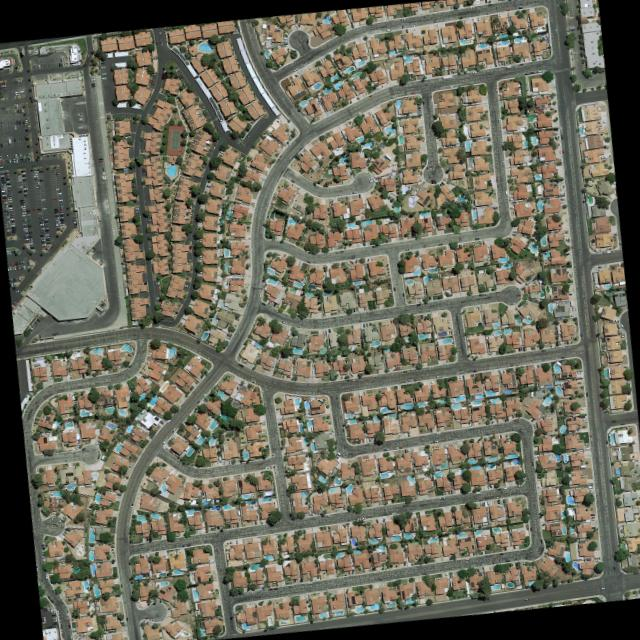large-vehicle: (389, 160, 397, 167), (6, 138, 11, 145), (579, 464, 586, 468), (504, 65, 511, 69), (217, 455, 221, 462), (619, 323, 624, 328), (503, 188, 507, 194), (474, 490, 480, 494), (292, 67, 298, 71), (445, 85, 452, 88), (605, 250, 610, 253), (596, 252, 601, 255)
ship: (40, 554, 45, 561)
small-vehicle: (237, 362, 244, 368), (170, 426, 176, 433), (161, 438, 167, 444), (367, 175, 374, 180), (124, 134, 131, 139), (165, 417, 170, 424), (552, 135, 558, 140), (368, 178, 374, 183), (286, 134, 291, 140), (367, 93, 373, 98), (321, 55, 326, 61), (348, 259, 354, 264), (288, 60, 294, 65), (226, 130, 231, 136), (260, 301, 266, 306), (196, 375, 202, 380), (190, 388, 195, 394), (195, 398, 201, 403), (235, 330, 240, 336), (366, 565, 371, 571), (303, 594, 308, 600), (138, 361, 143, 367), (49, 515, 54, 521), (233, 316, 239, 321), (400, 17, 407, 21), (435, 374, 442, 378), (82, 62, 87, 67), (565, 251, 570, 256), (475, 305, 480, 310), (487, 483, 492, 488), (426, 166, 431, 171), (424, 164, 429, 169), (298, 152, 303, 157), (274, 158, 279, 163), (285, 140, 290, 145), (293, 73, 298, 78), (417, 299, 422, 304), (244, 133, 249, 138), (289, 178, 294, 183), (439, 180, 444, 185), (302, 61, 307, 66), (511, 544, 516, 549), (540, 521, 545, 526), (50, 243, 55, 248), (158, 419, 163, 424), (201, 392, 206, 397), (250, 379, 255, 384), (241, 380, 246, 385), (341, 523, 346, 528), (263, 312, 268, 317), (529, 417, 534, 422), (443, 571, 448, 576), (127, 363, 132, 368), (80, 446, 85, 451), (27, 327, 32, 332), (35, 317, 40, 322), (268, 301, 273, 306), (39, 585, 44, 590), (612, 318, 618, 322), (507, 194, 513, 198), (435, 162, 439, 168), (559, 133, 563, 139), (494, 176, 498, 182), (446, 243, 450, 249), (499, 499, 503, 505), (540, 348, 546, 352), (576, 375, 582, 379), (374, 181, 380, 185), (390, 167, 396, 171), (351, 190, 357, 194), (422, 313, 426, 319), (388, 317, 392, 323), (349, 255, 355, 259), (535, 69, 541, 73), (486, 2, 492, 6), (443, 9, 449, 13), (409, 23, 415, 27), (523, 4, 529, 8), (589, 517, 595, 521), (479, 562, 485, 566), (504, 558, 510, 562), (509, 561, 513, 567), (521, 560, 525, 566), (34, 155, 38, 161), (55, 187, 61, 191), (56, 191, 62, 195), (42, 217, 48, 221), (54, 171, 60, 175), (218, 117, 224, 121), (183, 82, 189, 86), (304, 331, 308, 337), (311, 510, 317, 514), (432, 439, 438, 443), (417, 564, 423, 568), (234, 539, 238, 545), (217, 617, 223, 621), (238, 591, 244, 595), (70, 450, 76, 454), (96, 453, 100, 459), (64, 527, 70, 531), (126, 353, 132, 357), (274, 233, 278, 239), (51, 621, 57, 625), (345, 378, 352, 381), (463, 557, 470, 560), (531, 280, 536, 284), (519, 286, 524, 290), (510, 301, 515, 305), (570, 306, 574, 311), (568, 313, 573, 317), (508, 205, 513, 209), (437, 242, 442, 246), (560, 204, 564, 209), (620, 421, 625, 425), (473, 498, 478, 502), (524, 364, 528, 369), (531, 421, 536, 425), (498, 434, 502, 439), (482, 436, 486, 441), (489, 419, 493, 424), (512, 417, 517, 421), (344, 121, 348, 126), (374, 178, 379, 182), (277, 154, 282, 158), (366, 111, 371, 115), (279, 143, 283, 148), (356, 111, 361, 115), (281, 39, 286, 43), (329, 198, 333, 203), (365, 257, 369, 262), (316, 99, 320, 104), (285, 46, 290, 50), (432, 179, 436, 184), (518, 62, 523, 66), (484, 132, 489, 136), (601, 119, 606, 123), (438, 182, 442, 187), (429, 179, 433, 184), (404, 28, 408, 33), (386, 15, 390, 20), (448, 4, 452, 9), (469, 5, 474, 9), (400, 25, 405, 29), (458, 15, 463, 19), (485, 11, 490, 15), (505, 7, 510, 11), (523, 597, 528, 601), (538, 538, 542, 543), (542, 553, 547, 557), (539, 557, 544, 561), (14, 260, 18, 265), (31, 206, 35, 211), (43, 221, 48, 225), (36, 63, 40, 68), (11, 109, 15, 114), (1, 105, 5, 110), (23, 134, 27, 139), (180, 543, 185, 547), (160, 417, 164, 422), (126, 385, 130, 390), (202, 398, 206, 403), (227, 458, 231, 463), (233, 462, 238, 466), (355, 516, 360, 520), (342, 503, 346, 508), (325, 513, 330, 517), (200, 107, 205, 111), (179, 74, 184, 78), (174, 67, 179, 71), (272, 359, 276, 364), (295, 324, 300, 328), (281, 320, 286, 324), (225, 335, 230, 339), (250, 363, 254, 368), (205, 183, 210, 187), (436, 496, 441, 500), (372, 453, 376, 458), (367, 437, 371, 442), (374, 518, 378, 523), (255, 532, 260, 536), (295, 577, 299, 582), (258, 583, 262, 588), (249, 589, 254, 593), (344, 588, 348, 593), (409, 560, 413, 565), (217, 153, 222, 157), (123, 367, 128, 371), (144, 360, 149, 364), (177, 405, 181, 410), (63, 530, 68, 534), (127, 464, 132, 468), (116, 364, 120, 369), (144, 554, 148, 559), (9, 304, 14, 308), (11, 302, 16, 306), (12, 300, 17, 304), (15, 296, 19, 301), (14, 289, 19, 293), (28, 326, 33, 330), (30, 323, 34, 328), (33, 320, 37, 325), (257, 292, 261, 297), (183, 283, 188, 287), (249, 247, 253, 252), (55, 609, 59, 614), (34, 565, 38, 570), (49, 608, 54, 612), (76, 636, 81, 640), (52, 618, 57, 622), (51, 587, 55, 592), (46, 595, 51, 599), (49, 598, 53, 603), (59, 599, 63, 604), (53, 604, 57, 609), (66, 618, 70, 623), (552, 183, 558, 186), (582, 442, 588, 445), (590, 446, 593, 452), (471, 369, 477, 372), (509, 363, 515, 366), (404, 312, 410, 315), (528, 71, 534, 74), (410, 91, 416, 94), (385, 28, 391, 31), (612, 564, 615, 570), (587, 485, 593, 488), (468, 564, 474, 567), (407, 379, 413, 382), (412, 378, 418, 381), (18, 200, 24, 203), (19, 207, 25, 210), (26, 231, 32, 234), (0, 121, 3, 127), (0, 187, 6, 190), (0, 189, 6, 192), (327, 431, 333, 434), (360, 516, 366, 519), (390, 511, 396, 514), (435, 431, 441, 434), (397, 445, 403, 448), (382, 448, 388, 451), (267, 587, 273, 590), (272, 587, 278, 590), (350, 568, 353, 574), (385, 577, 391, 580), (421, 572, 427, 575), (196, 257, 202, 260), (567, 273, 571, 277), (616, 324, 620, 328), (588, 432, 592, 436), (581, 417, 585, 421), (26, 250, 30, 254), (7, 250, 11, 254), (39, 222, 43, 226), (171, 435, 175, 439), (38, 169, 42, 173), (270, 364, 274, 368), (150, 78, 154, 82), (413, 495, 417, 499), (217, 525, 221, 529), (103, 386, 107, 390), (62, 532, 66, 536), (57, 518, 61, 522), (116, 494, 120, 498), (130, 501, 134, 505), (12, 282, 16, 286), (14, 298, 18, 302), (266, 300, 270, 304), (35, 574, 39, 578), (50, 610, 54, 614), (402, 380, 407, 383), (570, 244, 573, 249), (434, 300, 439, 303), (478, 293, 483, 296), (515, 293, 520, 296), (596, 265, 601, 268), (597, 268, 602, 271), (619, 334, 624, 337), (610, 249, 615, 252), (611, 235, 616, 238), (611, 232, 616, 235), (554, 156, 559, 159), (501, 159, 504, 164), (485, 203, 490, 206), (558, 186, 561, 191), (510, 201, 515, 204), (492, 206, 497, 209), (492, 208, 497, 211), (492, 211, 497, 214), (457, 243, 460, 248), (474, 229, 479, 232), (474, 237, 479, 240), (481, 239, 484, 244), (579, 332, 582, 337), (519, 346, 522, 351), (589, 436, 592, 441), (611, 419, 616, 422), (583, 444, 588, 447), (583, 446, 588, 449), (633, 458, 638, 461), (534, 455, 539, 458), (502, 486, 507, 489), (496, 487, 501, 490), (481, 501, 484, 506), (532, 424, 537, 427), (558, 340, 561, 345), (536, 363, 539, 368), (501, 368, 504, 373), (458, 375, 461, 380), (560, 345, 565, 348), (554, 356, 559, 359), (560, 355, 565, 358), (576, 381, 581, 384), (624, 379, 629, 382), (625, 381, 630, 384), (485, 432, 490, 435), (491, 431, 496, 434), (495, 417, 498, 422), (505, 416, 508, 421), (297, 22, 300, 27), (337, 193, 342, 196), (282, 44, 287, 47), (404, 247, 409, 250), (428, 366, 433, 369), (362, 322, 365, 327), (365, 322, 368, 327), (415, 303, 420, 306), (370, 256, 373, 261), (357, 258, 360, 263), (354, 258, 357, 263), (333, 250, 338, 253), (338, 250, 343, 253), (371, 244, 376, 247), (357, 193, 360, 198), (471, 70, 476, 73), (523, 72, 528, 75), (541, 69, 546, 72), (416, 108, 421, 111), (500, 60, 503, 65), (429, 97, 432, 102), (494, 86, 497, 91), (501, 125, 506, 128), (497, 61, 500, 66), (537, 54, 540, 59), (545, 41, 548, 46), (517, 6, 522, 9), (451, 69, 454, 74), (454, 68, 457, 73), (478, 498, 483, 501), (493, 495, 498, 498), (600, 587, 605, 590), (594, 559, 599, 562), (587, 487, 592, 490), (529, 526, 532, 531), (589, 513, 594, 516), (590, 526, 595, 529), (489, 537, 492, 542), (503, 546, 506, 551), (488, 553, 493, 556), (498, 552, 503, 555), (491, 561, 496, 564), (488, 565, 491, 570), (57, 198, 62, 201), (34, 181, 39, 184), (34, 185, 39, 188), (16, 185, 21, 188), (17, 190, 22, 193), (18, 198, 23, 201), (20, 209, 25, 212), (40, 198, 45, 201), (41, 206, 46, 209), (36, 208, 41, 211), (36, 212, 41, 215), (37, 216, 42, 219), (60, 220, 65, 223), (10, 228, 15, 231), (12, 249, 15, 254), (53, 207, 58, 210), (54, 212, 59, 215), (54, 214, 59, 217), (54, 216, 59, 219), (54, 218, 59, 221), (38, 220, 43, 223), (25, 209, 30, 212), (21, 218, 26, 221), (21, 222, 26, 225), (22, 226, 27, 229), (22, 229, 27, 232), (22, 233, 27, 236), (23, 235, 28, 238), (23, 237, 28, 240), (23, 240, 28, 243), (29, 246, 34, 249), (10, 261, 13, 266), (40, 242, 45, 245), (39, 229, 44, 232), (39, 233, 44, 236), (40, 240, 45, 243), (41, 246, 46, 249), (133, 207, 138, 210), (101, 71, 106, 74), (90, 78, 95, 81), (123, 167, 128, 170), (123, 170, 128, 173), (15, 103, 18, 108), (100, 65, 105, 68), (86, 53, 89, 58), (1, 84, 6, 87), (19, 89, 24, 92), (14, 90, 19, 93), (20, 107, 23, 112), (15, 120, 18, 125), (17, 119, 20, 124), (21, 120, 24, 125), (12, 137, 15, 142), (486, 345, 489, 350), (185, 543, 190, 546), (99, 58, 104, 61), (99, 61, 104, 64), (365, 262, 368, 267), (362, 305, 365, 310), (392, 286, 395, 291), (326, 206, 329, 211), (24, 43, 27, 48), (0, 81, 5, 84), (18, 152, 21, 157), (32, 174, 37, 177), (33, 177, 38, 180), (38, 178, 43, 181), (0, 185, 5, 188), (6, 193, 11, 196), (6, 195, 11, 198), (7, 208, 12, 211), (3, 211, 8, 214), (21, 178, 26, 181), (23, 157, 26, 162), (21, 157, 24, 162), (15, 158, 18, 163), (14, 152, 17, 157), (1, 158, 4, 163), (1, 182, 6, 185), (4, 175, 9, 178), (5, 180, 10, 183), (21, 259, 24, 264), (274, 428, 277, 433), (262, 400, 265, 405), (277, 422, 282, 425), (215, 459, 218, 464), (222, 459, 225, 464), (206, 467, 211, 470), (237, 473, 240, 478), (240, 473, 243, 478), (285, 375, 290, 378), (307, 510, 310, 515), (200, 164, 205, 167), (321, 329, 324, 334), (225, 333, 230, 336), (403, 448, 406, 453), (382, 517, 385, 522), (441, 496, 446, 499), (426, 498, 431, 501), (406, 448, 409, 453), (393, 446, 398, 449), (397, 433, 400, 438), (362, 389, 365, 394), (429, 379, 432, 384), (235, 522, 238, 527), (298, 573, 301, 578), (288, 584, 293, 587), (307, 581, 312, 584), (323, 587, 328, 590), (402, 560, 405, 565), (253, 170, 258, 173), (7, 282, 10, 287), (23, 411, 26, 416), (33, 421, 38, 424), (47, 453, 52, 456), (81, 373, 84, 378), (14, 277, 17, 282), (6, 266, 9, 271), (12, 265, 15, 270), (129, 505, 132, 510), (59, 623, 62, 628), (69, 634, 72, 639), (119, 621, 124, 624), (120, 623, 125, 626), (297, 260, 300, 265), (186, 258, 191, 261), (51, 613, 56, 616), (141, 554, 144, 559), (44, 573, 47, 578), (46, 625, 51, 628), (42, 616, 45, 621), (41, 607, 44, 612), (51, 616, 56, 619), (119, 583, 122, 588), (65, 611, 68, 616), (67, 623, 70, 628), (429, 295, 432, 299), (483, 292, 487, 295), (525, 299, 529, 302), (567, 292, 571, 295), (617, 331, 621, 334), (616, 328, 620, 331), (559, 200, 563, 203), (559, 197, 563, 200), (507, 198, 513, 200), (517, 347, 520, 351), (635, 474, 639, 477), (634, 463, 638, 466), (604, 439, 607, 443), (605, 443, 608, 447), (579, 406, 583, 409), (517, 484, 521, 487), (486, 500, 489, 504), (575, 371, 581, 373), (563, 340, 566, 344), (498, 369, 501, 373), (623, 365, 627, 368), (453, 437, 457, 440), (426, 159, 429, 163), (365, 162, 368, 166), (349, 171, 351, 177), (346, 173, 349, 177), (347, 192, 351, 195), (289, 128, 292, 132), (305, 39, 308, 43), (413, 250, 416, 254), (416, 106, 420, 109), (554, 28, 556, 34), (498, 93, 502, 96), (421, 100, 424, 104), (497, 118, 500, 122), (549, 107, 553, 110), (370, 35, 373, 39), (369, 23, 373, 26), (476, 17, 479, 21), (412, 10, 415, 14), (555, 2, 558, 6), (588, 490, 592, 493), (590, 515, 594, 518), (484, 554, 488, 557), (372, 374, 376, 377), (59, 211, 63, 214), (22, 184, 26, 187), (23, 191, 27, 194), (10, 217, 14, 220), (10, 221, 14, 224), (10, 223, 14, 226), (6, 228, 10, 231), (6, 233, 10, 236), (131, 184, 135, 187), (55, 225, 59, 228), (73, 225, 77, 228), (43, 220, 47, 223), (28, 237, 32, 240), (21, 211, 25, 214), (26, 213, 30, 216), (27, 224, 31, 227), (28, 239, 32, 242), (19, 260, 22, 264), (135, 227, 139, 230), (44, 226, 48, 229), (44, 233, 48, 236), (45, 235, 49, 238), (40, 236, 44, 239), (90, 82, 94, 85), (91, 84, 95, 87), (97, 157, 101, 160), (98, 159, 102, 162), (141, 169, 145, 172), (4, 218, 8, 221), (18, 109, 21, 113), (18, 103, 21, 107), (17, 79, 21, 82), (24, 119, 27, 123), (13, 125, 16, 129), (27, 151, 30, 155), (235, 385, 238, 389), (401, 292, 404, 296), (59, 57, 62, 61), (32, 168, 36, 171), (33, 170, 37, 173), (33, 172, 37, 175), (6, 184, 10, 187), (6, 189, 10, 192), (21, 176, 25, 179), (2, 198, 6, 201), (8, 206, 12, 209), (0, 174, 4, 177), (12, 158, 15, 162), (5, 154, 8, 158), (0, 165, 4, 168), (0, 176, 4, 179), (21, 171, 25, 174), (1, 180, 5, 183), (6, 182, 10, 185), (16, 172, 20, 175), (17, 174, 21, 177), (17, 176, 21, 179), (17, 178, 21, 181), (26, 260, 29, 264), (260, 389, 263, 393), (316, 510, 319, 514), (178, 73, 181, 77), (150, 81, 154, 84), (151, 74, 155, 77), (173, 88, 177, 91), (175, 81, 178, 85), (152, 56, 156, 59), (159, 37, 162, 41), (327, 328, 330, 332), (378, 493, 381, 497), (447, 442, 450, 446), (361, 438, 364, 442), (347, 570, 350, 574), (215, 525, 218, 529), (293, 578, 296, 582), (471, 551, 474, 555), (453, 571, 456, 575), (76, 443, 79, 447), (67, 392, 70, 396), (42, 453, 46, 456), (116, 492, 120, 495), (26, 265, 29, 269), (9, 278, 12, 282), (10, 282, 13, 286), (12, 277, 15, 281), (15, 265, 18, 269), (37, 334, 40, 338), (155, 286, 159, 289), (125, 616, 128, 620), (57, 615, 60, 619), (144, 616, 148, 619), (150, 618, 154, 621), (273, 309, 277, 312), (306, 260, 310, 263), (244, 244, 248, 247), (41, 621, 45, 624), (44, 607, 47, 611), (158, 598, 161, 602), (496, 299, 501, 301), (561, 148, 563, 153), (565, 237, 567, 242), (531, 460, 533, 465), (635, 479, 640, 481), (479, 501, 481, 506), (352, 307, 354, 312), (365, 311, 370, 313), (411, 250, 413, 255), (281, 37, 286, 39), (591, 70, 593, 75), (416, 104, 421, 106), (538, 109, 543, 111), (509, 16, 511, 21), (59, 216, 64, 218), (58, 205, 63, 207), (22, 187, 27, 189), (22, 189, 27, 191), (20, 203, 25, 205), (20, 205, 25, 207), (60, 223, 65, 225), (55, 228, 60, 230), (5, 220, 10, 222), (10, 226, 15, 228), (5, 231, 10, 233), (72, 221, 77, 223), (71, 218, 76, 220), (53, 210, 58, 212), (55, 221, 60, 223), (55, 223, 60, 225), (153, 232, 158, 234), (28, 242, 33, 244), (101, 77, 106, 79), (141, 167, 146, 169), (0, 105, 2, 110), (14, 93, 19, 95), (456, 67, 458, 72), (570, 430, 575, 432), (28, 156, 30, 161), (1, 194, 6, 196), (1, 196, 6, 198), (3, 207, 8, 209), (19, 157, 21, 162), (4, 173, 9, 175), (4, 178, 9, 180), (254, 519, 256, 524), (379, 500, 381, 505), (120, 363, 122, 368), (23, 264, 25, 269), (153, 282, 158, 284), (602, 251, 605, 254), (434, 103, 437, 106), (484, 0, 487, 3), (41, 238, 44, 241), (46, 241, 49, 244), (152, 72, 155, 75), (160, 42, 163, 45), (60, 633, 63, 636), (61, 637, 64, 640), (46, 607, 49, 610), (156, 597, 159, 600), (511, 233, 515, 235), (294, 22, 296, 26), (402, 370, 406, 372), (480, 550, 482, 554), (59, 218, 63, 220), (59, 214, 63, 216), (59, 210, 63, 212), (58, 207, 62, 209), (23, 194, 27, 196), (52, 197, 56, 199), (15, 249, 17, 253), (11, 231, 15, 233), (11, 233, 15, 235), (21, 214, 25, 216), (28, 235, 32, 237), (29, 244, 33, 246), (5, 250, 7, 254), (6, 262, 8, 266), (13, 261, 15, 265), (39, 227, 43, 229), (44, 229, 48, 231), (45, 238, 49, 240), (9, 215, 13, 217), (0, 142, 2, 146), (16, 108, 18, 112), (134, 210, 138, 212), (57, 62, 59, 66), (9, 213, 13, 215), (2, 192, 6, 194), (7, 198, 11, 200), (8, 200, 12, 202), (3, 201, 7, 203), (8, 204, 12, 206), (3, 209, 7, 211), (21, 174, 25, 176), (8, 158, 10, 162), (6, 159, 8, 163), (0, 172, 4, 174), (0, 179, 4, 181), (4, 171, 8, 173), (7, 278, 9, 282), (158, 30, 160, 34), (447, 489, 449, 493), (450, 489, 452, 493), (533, 391, 535, 395), (450, 442, 452, 446), (316, 574, 318, 578), (9, 266, 11, 270), (11, 266, 13, 270), (18, 265, 20, 269), (20, 264, 22, 268), (155, 297, 159, 299), (59, 619, 61, 623), (60, 628, 62, 632), (72, 629, 76, 631), (146, 550, 150, 552), (638, 507, 640, 510), (10, 220, 13, 222), (5, 216, 8, 218), (0, 94, 2, 97), (60, 61, 61, 66), (0, 159, 1, 164), (0, 91, 2, 93), (0, 155, 1, 159)
